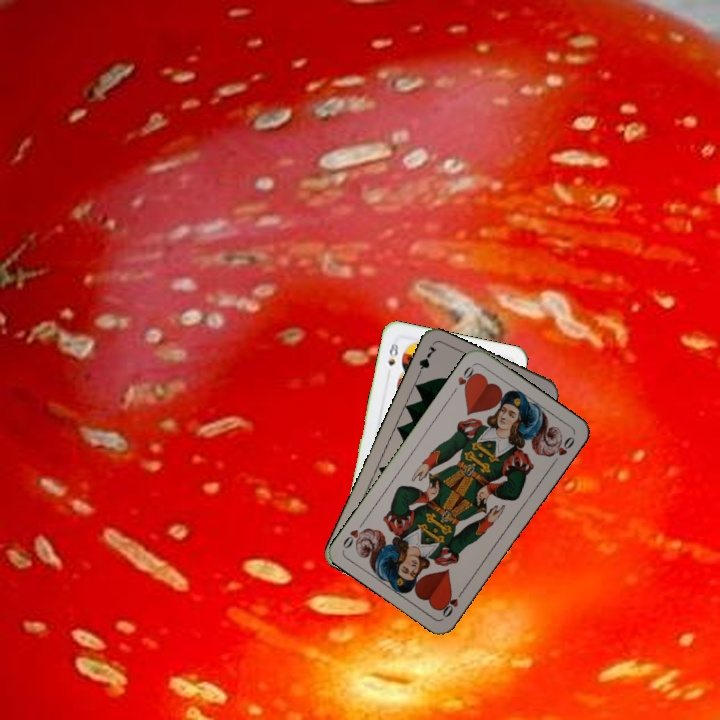G7: (413, 342, 439, 380)
HO: (448, 361, 479, 397), (437, 585, 467, 620)
S8: (384, 339, 401, 368)
